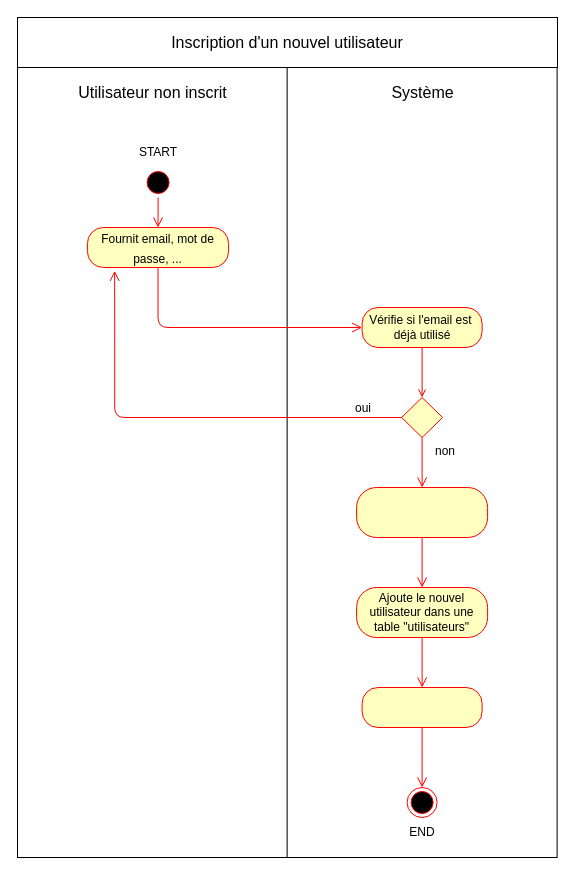
Image size: 575x875. Some labels were removed from this diagram. The box of each missing label's shape, as (x1, y1, x2, y2) in pixels:
Confirme la création d'utilisateur: (361, 686, 482, 728)
Vérifie si le mot de passe respecte certaines règles: (356, 486, 488, 538)
